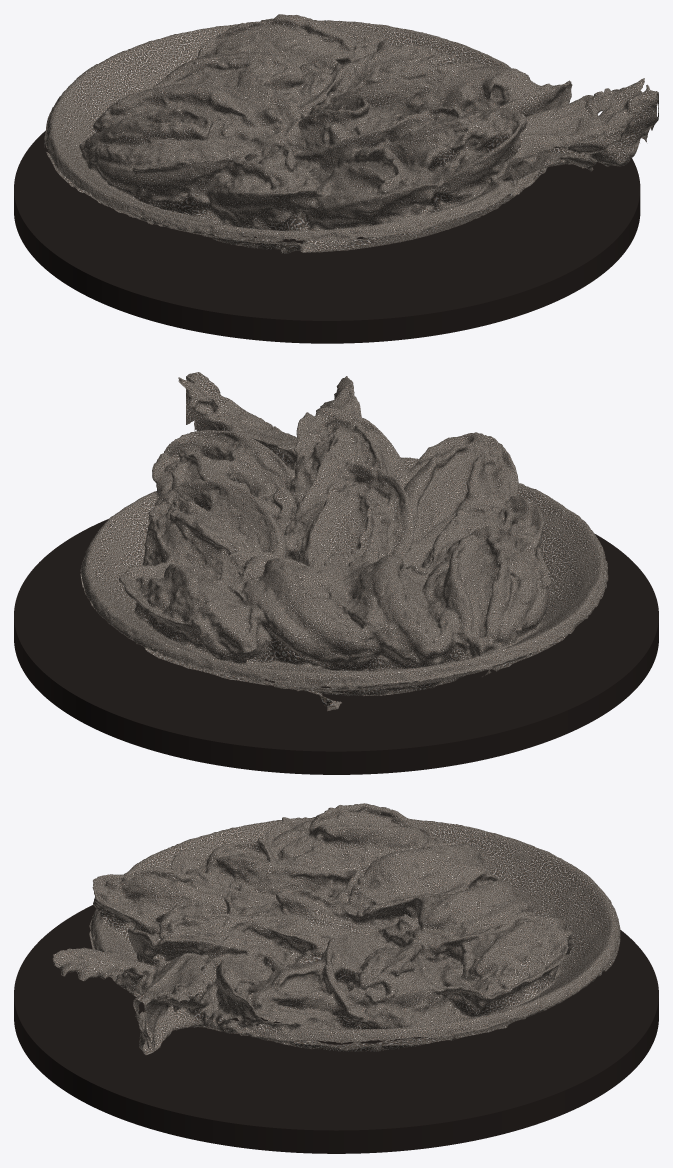
3 renders of one model, top to bottom at view 1: azimuth 30°, elevation 25°; view 2: azimuth 150°, elevation 25°; view 3: azimuth 270°, elevation 25°, orthographic. The views are drawn at different scales.
Parts seen in each view (by area): view 1: Iki_ezo_awabi, Round_base_25cm; view 2: Iki_ezo_awabi, Round_base_25cm; view 3: Iki_ezo_awabi, Round_base_25cm.
Part boxes in pixels (<box>): Iki_ezo_awabi: <box>44,14,658,253</box>; Round_base_25cm: <box>14,131,640,343</box>; Iki_ezo_awabi: <box>80,372,608,711</box>; Round_base_25cm: <box>14,519,658,774</box>; Iki_ezo_awabi: <box>52,803,620,1054</box>; Round_base_25cm: <box>14,905,658,1153</box>.
Bounding box in the file's own units: 0.25 × 0.06 × 0.25.
Materials: 2 (1 with a texture image).
